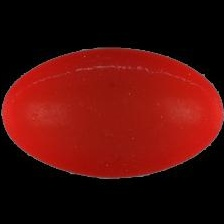0615-7901: (0, 0, 224, 224)
